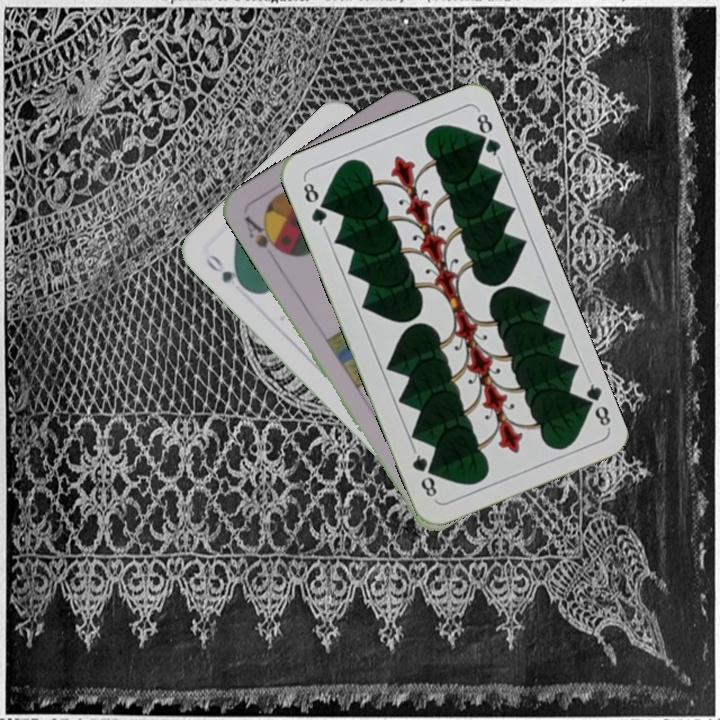G8: (576, 374, 614, 431), (299, 176, 330, 232)
GO: (201, 250, 250, 293)
SA: (240, 212, 286, 257)
